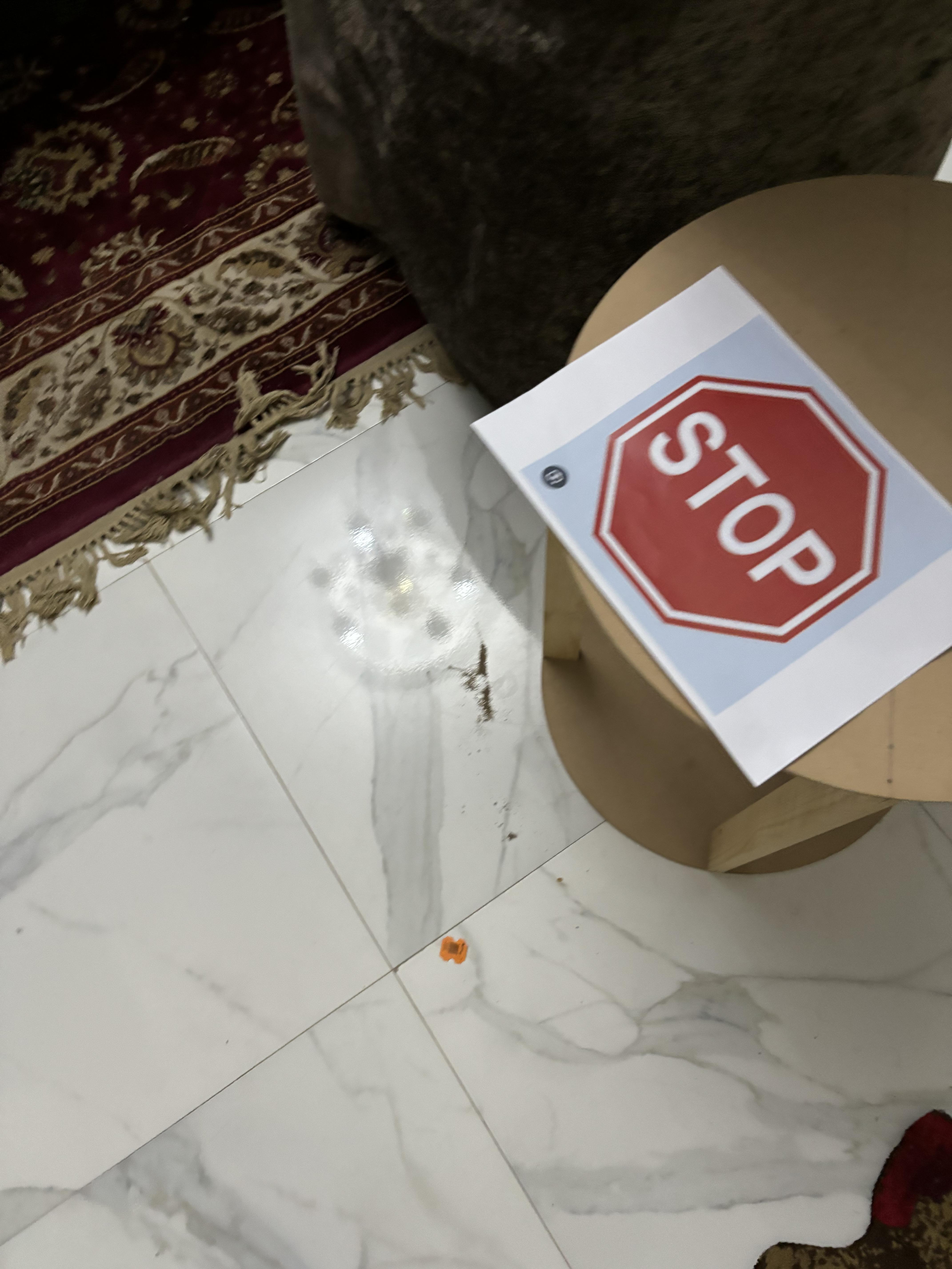Stop: (592, 371, 893, 645)
